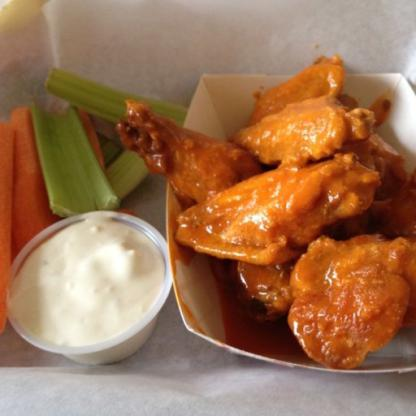yogurt: (11, 219, 156, 342)
